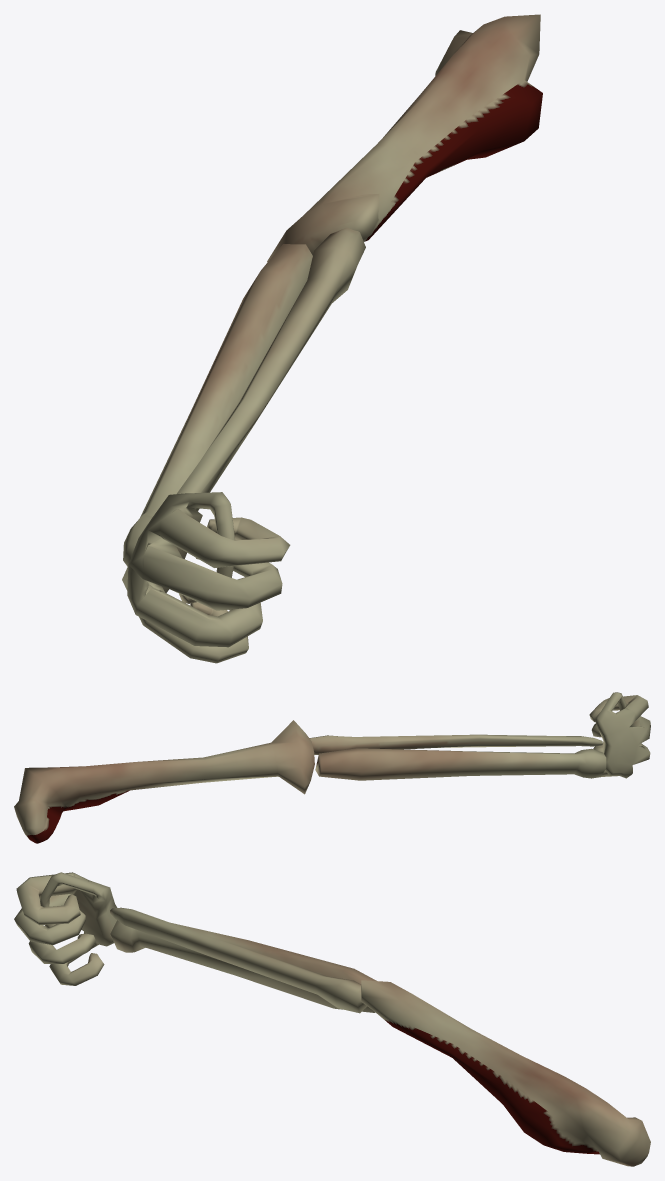
The model's file is R_Arm_231204.fbx.
The picture shows the model from 3 angles, top to bottom: view 1: azimuth 30°, elevation 25°; view 2: azimuth 150°, elevation 25°; view 3: azimuth 270°, elevation 25°; orthographic projection. The views are drawn at different scales.
Visible parts, largest first — view 1: R_Arm; view 2: R_Arm; view 3: R_Arm.
Boxes of the visible parts, box(x1,y1,x2,y2) form: R_Arm: box(122, 14, 542, 663); R_Arm: box(14, 692, 650, 843); R_Arm: box(14, 872, 650, 1166).
Size of the model in its own units: 1.49 by 0.3324 by 1.6.
